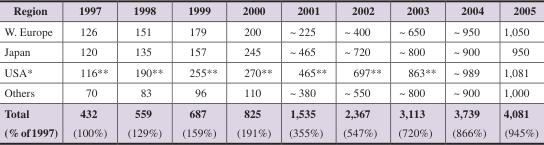table: (3, 3, 537, 138)
table column: (3, 3, 64, 138), (171, 3, 226, 138), (279, 3, 334, 138), (334, 3, 389, 138), (117, 3, 171, 138), (389, 3, 443, 138), (64, 3, 117, 138), (226, 3, 279, 138), (443, 3, 494, 138), (494, 3, 537, 138)
table column header: (3, 3, 537, 20)
table row: (3, 102, 537, 138), (3, 20, 537, 41), (3, 61, 537, 82), (3, 41, 537, 61), (3, 82, 537, 102), (3, 3, 537, 20)
